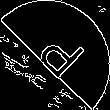P_SW: (25, 24, 85, 86)
